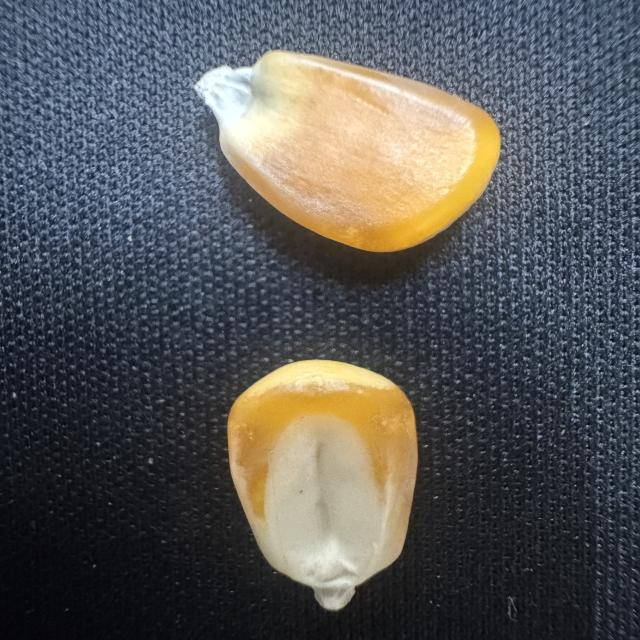Good-Seed: (191, 43, 509, 256), (216, 352, 429, 614)
